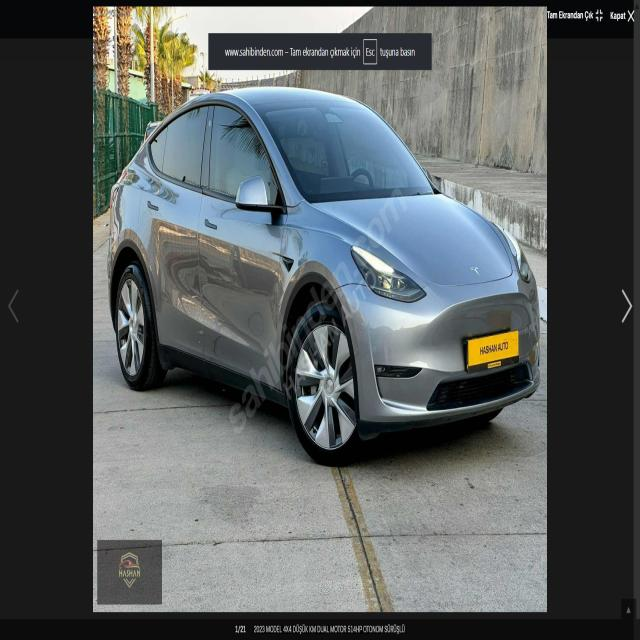tesla: (460, 260, 490, 285)
